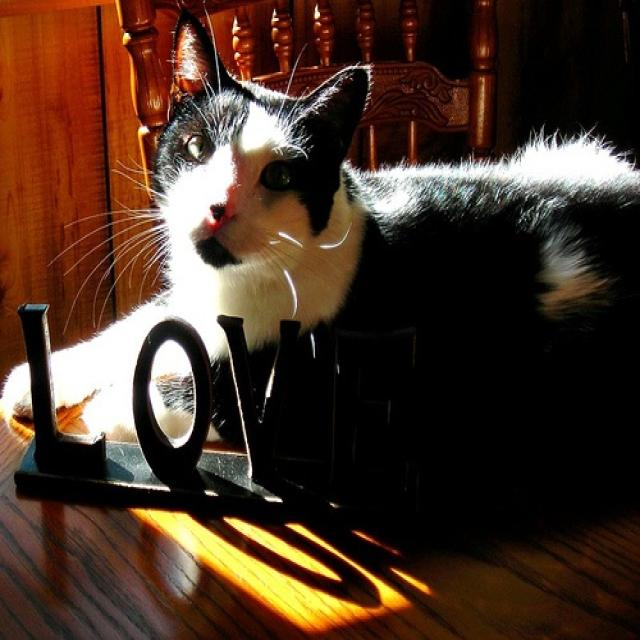cat: (12, 21, 634, 472)
